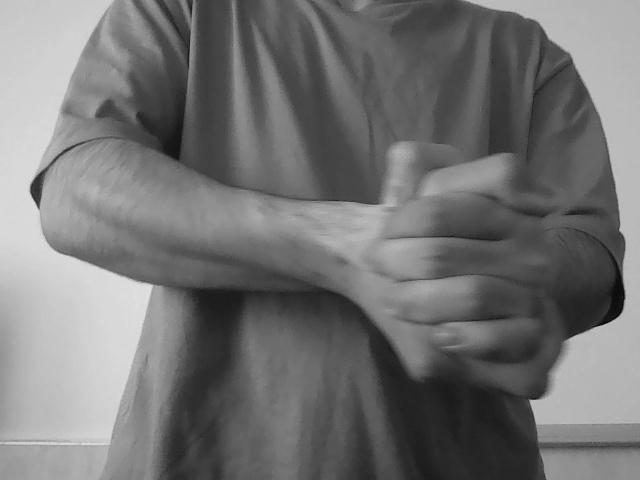friend: (342, 137, 575, 401)
